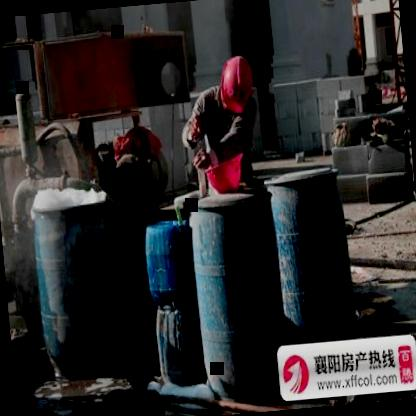helmet: (214, 52, 260, 118)
